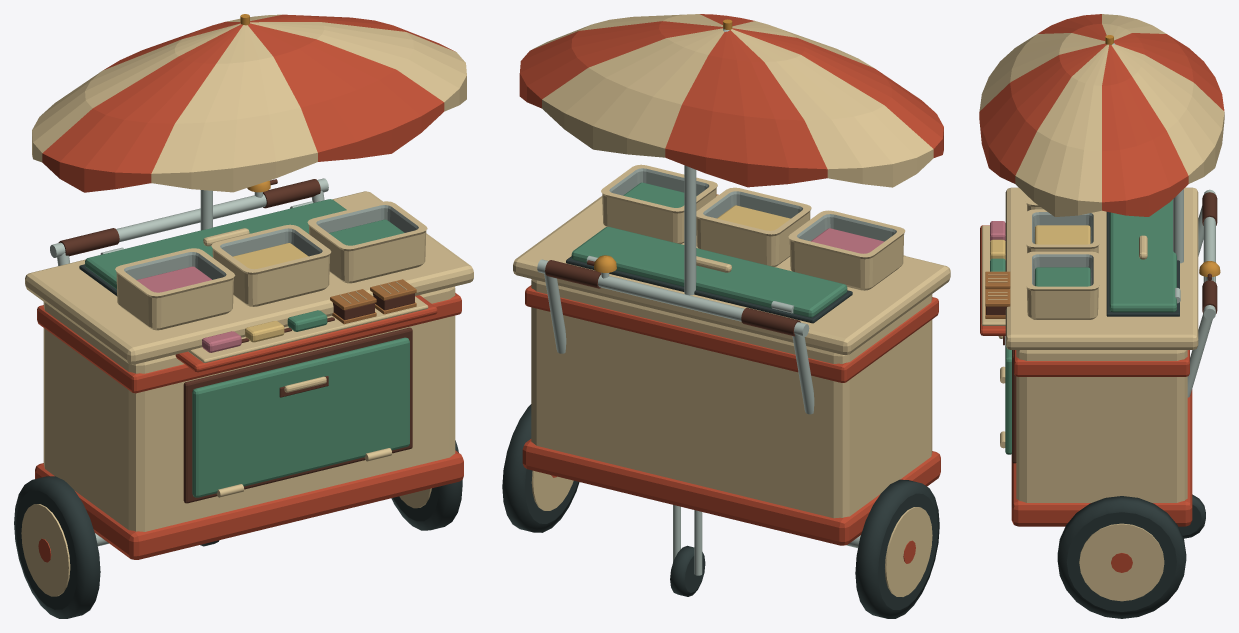
3 renders of one model, left to right at view 1: azimuth 30°, elevation 25°; view 2: azimuth 150°, elevation 25°; view 3: azimuth 270°, elevation 25°, orthographic. The views are drawn at different scales.
Visible parts, largest first — view 1: CART_InsulatedBoxWheelsHandleBell, UMBRELLA_Canopy, SERVICE_Flap, FLAVOUR_ThreeTubs, TRAY_BarsAndWafers; view 2: CART_InsulatedBoxWheelsHandleBell, UMBRELLA_Canopy, FLAVOUR_ThreeTubs; view 3: CART_InsulatedBoxWheelsHandleBell, UMBRELLA_Canopy, FLAVOUR_ThreeTubs, TRAY_BarsAndWafers, SERVICE_Flap.
Part boxes in pixels (box(x1,y1,x2,y2)): CART_InsulatedBoxWheelsHandleBell: box(14, 178, 473, 618); UMBRELLA_Canopy: box(32, 14, 466, 192); SERVICE_Flap: box(192, 337, 409, 497); FLAVOUR_ThreeTubs: box(115, 201, 427, 330); TRAY_BarsAndWafers: box(175, 279, 437, 372); CART_InsulatedBoxWheelsHandleBell: box(502, 28, 950, 618); UMBRELLA_Canopy: box(519, 14, 943, 187); FLAVOUR_ThreeTubs: box(601, 164, 905, 290); CART_InsulatedBoxWheelsHandleBell: box(1005, 43, 1220, 618); UMBRELLA_Canopy: box(979, 14, 1224, 216); FLAVOUR_ThreeTubs: box(1025, 194, 1099, 319); TRAY_BarsAndWafers: box(980, 221, 1010, 335); SERVICE_Flap: box(998, 336, 1011, 454).
Size of the model in its own units: 1.4 by 1.8 by 0.8.
